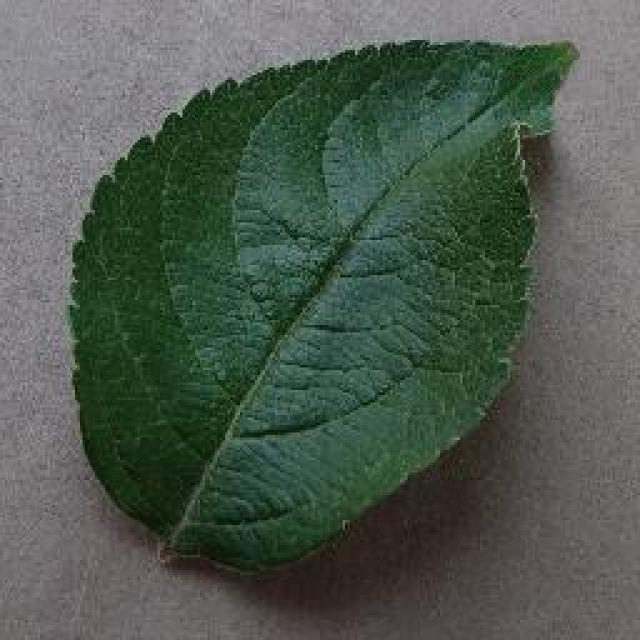apple healthy: (62, 35, 580, 575)
